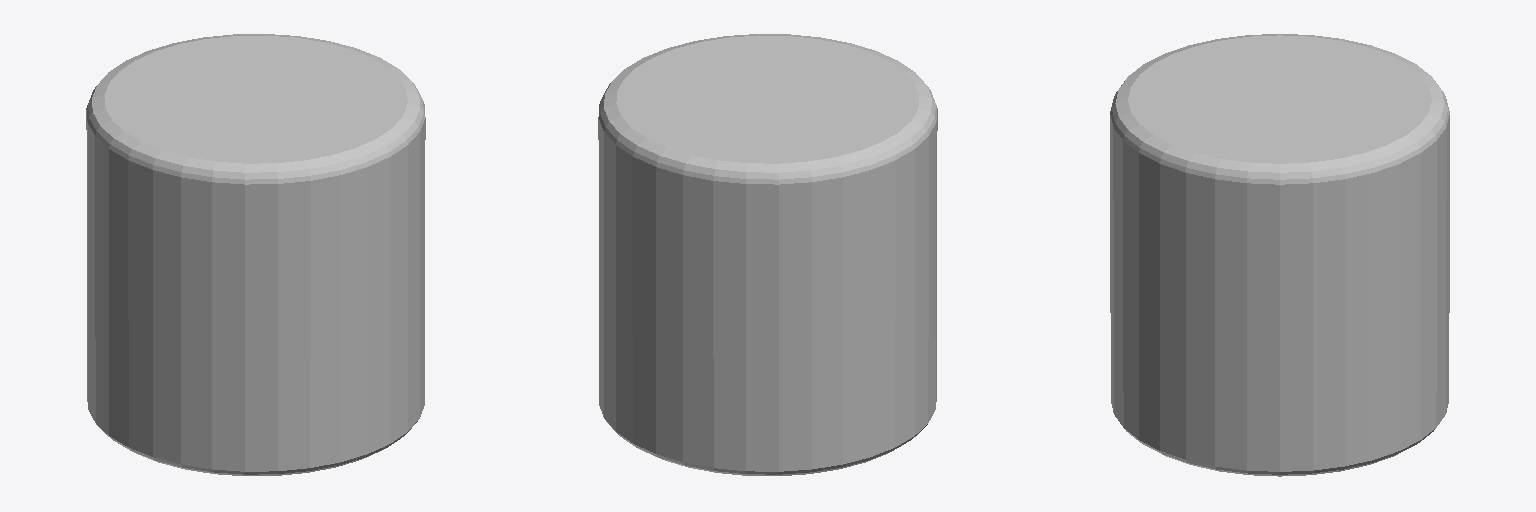
Rendered from Valence.obj.
The picture shows the model from 3 angles: view 1: azimuth 30°, elevation 25°; view 2: azimuth 150°, elevation 25°; view 3: azimuth 270°, elevation 25°; orthographic projection.
Parts seen in each view (by area): view 1: Model_Cylinder; view 2: Model_Cylinder; view 3: Model_Cylinder.
Boxes of the visible parts, x1,y1,x2,y2 form: Model_Cylinder: [86, 34, 425, 475]; Model_Cylinder: [598, 34, 937, 475]; Model_Cylinder: [1110, 34, 1449, 476].
Bounding box in the file's own units: 1.97 × 2 × 1.97.